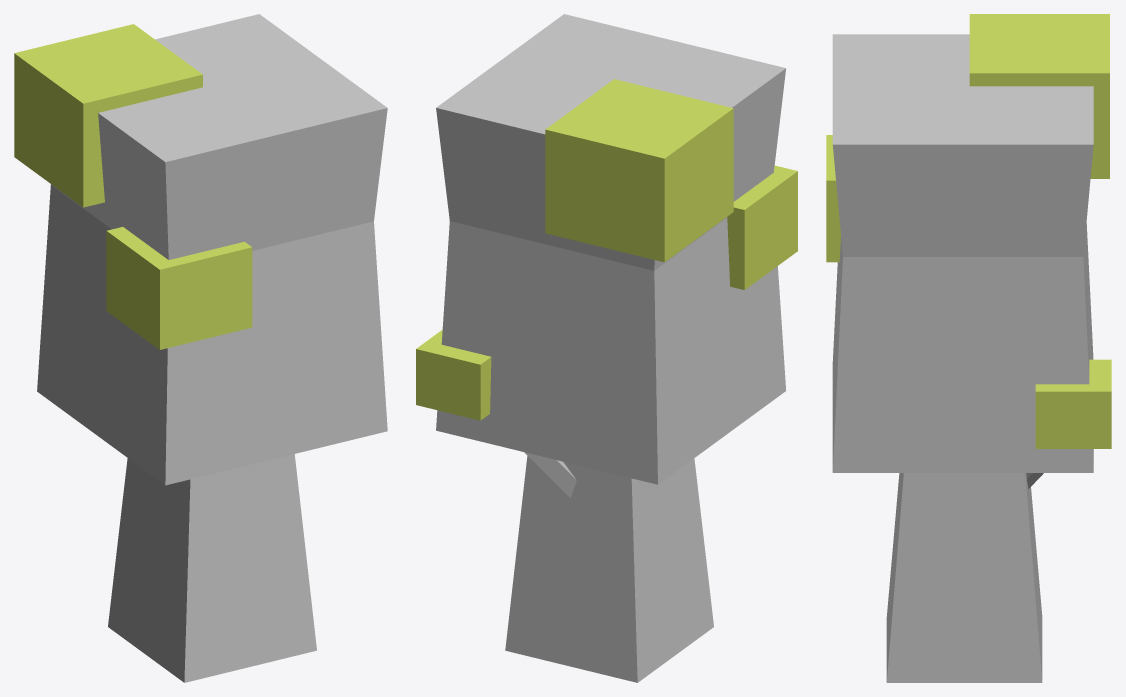
File: Copac-7.fbx
3 renders of one model, left to right at view 1: azimuth 30°, elevation 25°; view 2: azimuth 150°, elevation 25°; view 3: azimuth 270°, elevation 25°, orthographic.
Visible parts, largest first — view 1: Cube.007; view 2: Cube.007; view 3: Cube.007.
Boxes of the visible parts, x1,y1,x2,y2 form: Cube.007: (14,14,387,682); Cube.007: (416,14,797,682); Cube.007: (826,14,1111,682).
Bounding box in the file's own units: 1.47 × 3.2 × 1.44.
